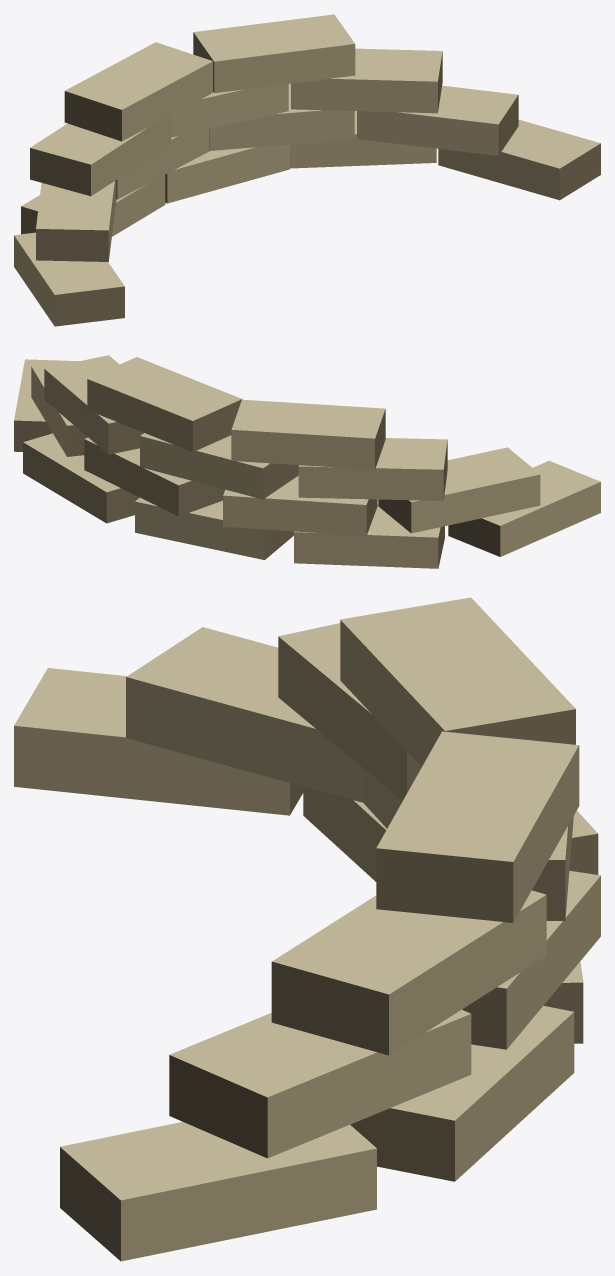
The model's file is sandbags_01.fbx.
3 views of the same model, one above another, from view 1: azimuth 30°, elevation 25°; view 2: azimuth 150°, elevation 25°; view 3: azimuth 270°, elevation 25° (orthographic). The views are drawn at different scales.
Parts seen in each view (by area): view 1: sandbags_01; view 2: sandbags_01; view 3: sandbags_01.
Boxes of the visible parts, x1,y1,x2,y2 form: sandbags_01: [14, 14, 600, 326]; sandbags_01: [14, 355, 600, 568]; sandbags_01: [14, 597, 600, 1261].
Bounding box in the file's own units: 259 × 55.32 × 121.
